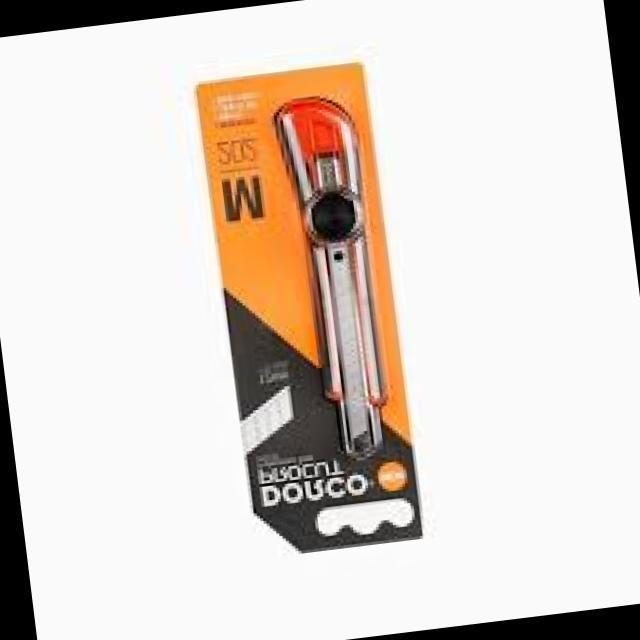cutter: (260, 87, 402, 472)
